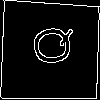Q: (25, 26, 74, 66)
